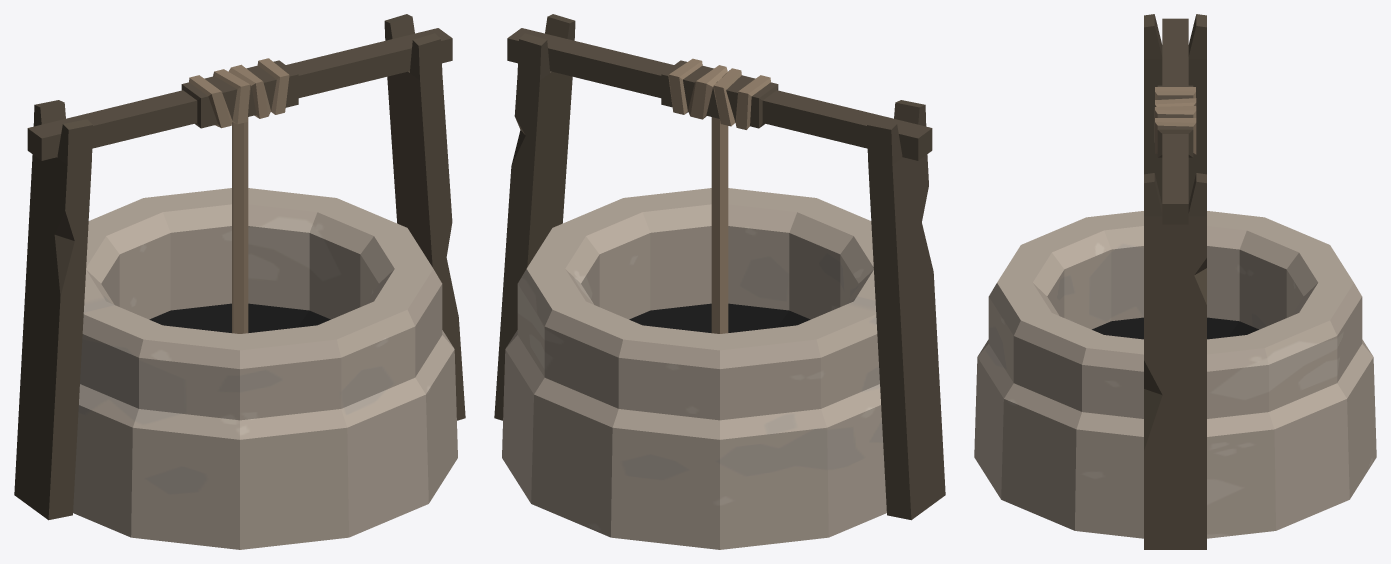
The model's file is SM_Bld_Village_Well_01.fbx.
3 views of the same model, side by side, from view 1: azimuth 30°, elevation 25°; view 2: azimuth 150°, elevation 25°; view 3: azimuth 270°, elevation 25° (orthographic). The views are drawn at different scales.
Parts seen in each view (by area): view 1: SM_Bld_Village_Well_01; view 2: SM_Bld_Village_Well_01; view 3: SM_Bld_Village_Well_01.
Boxes of the visible parts, x1,y1,x2,y2 form: SM_Bld_Village_Well_01: (14, 14, 465, 549); SM_Bld_Village_Well_01: (494, 14, 945, 549); SM_Bld_Village_Well_01: (974, 14, 1376, 549).
Size of the model in its own units: 265 by 236 by 240.
